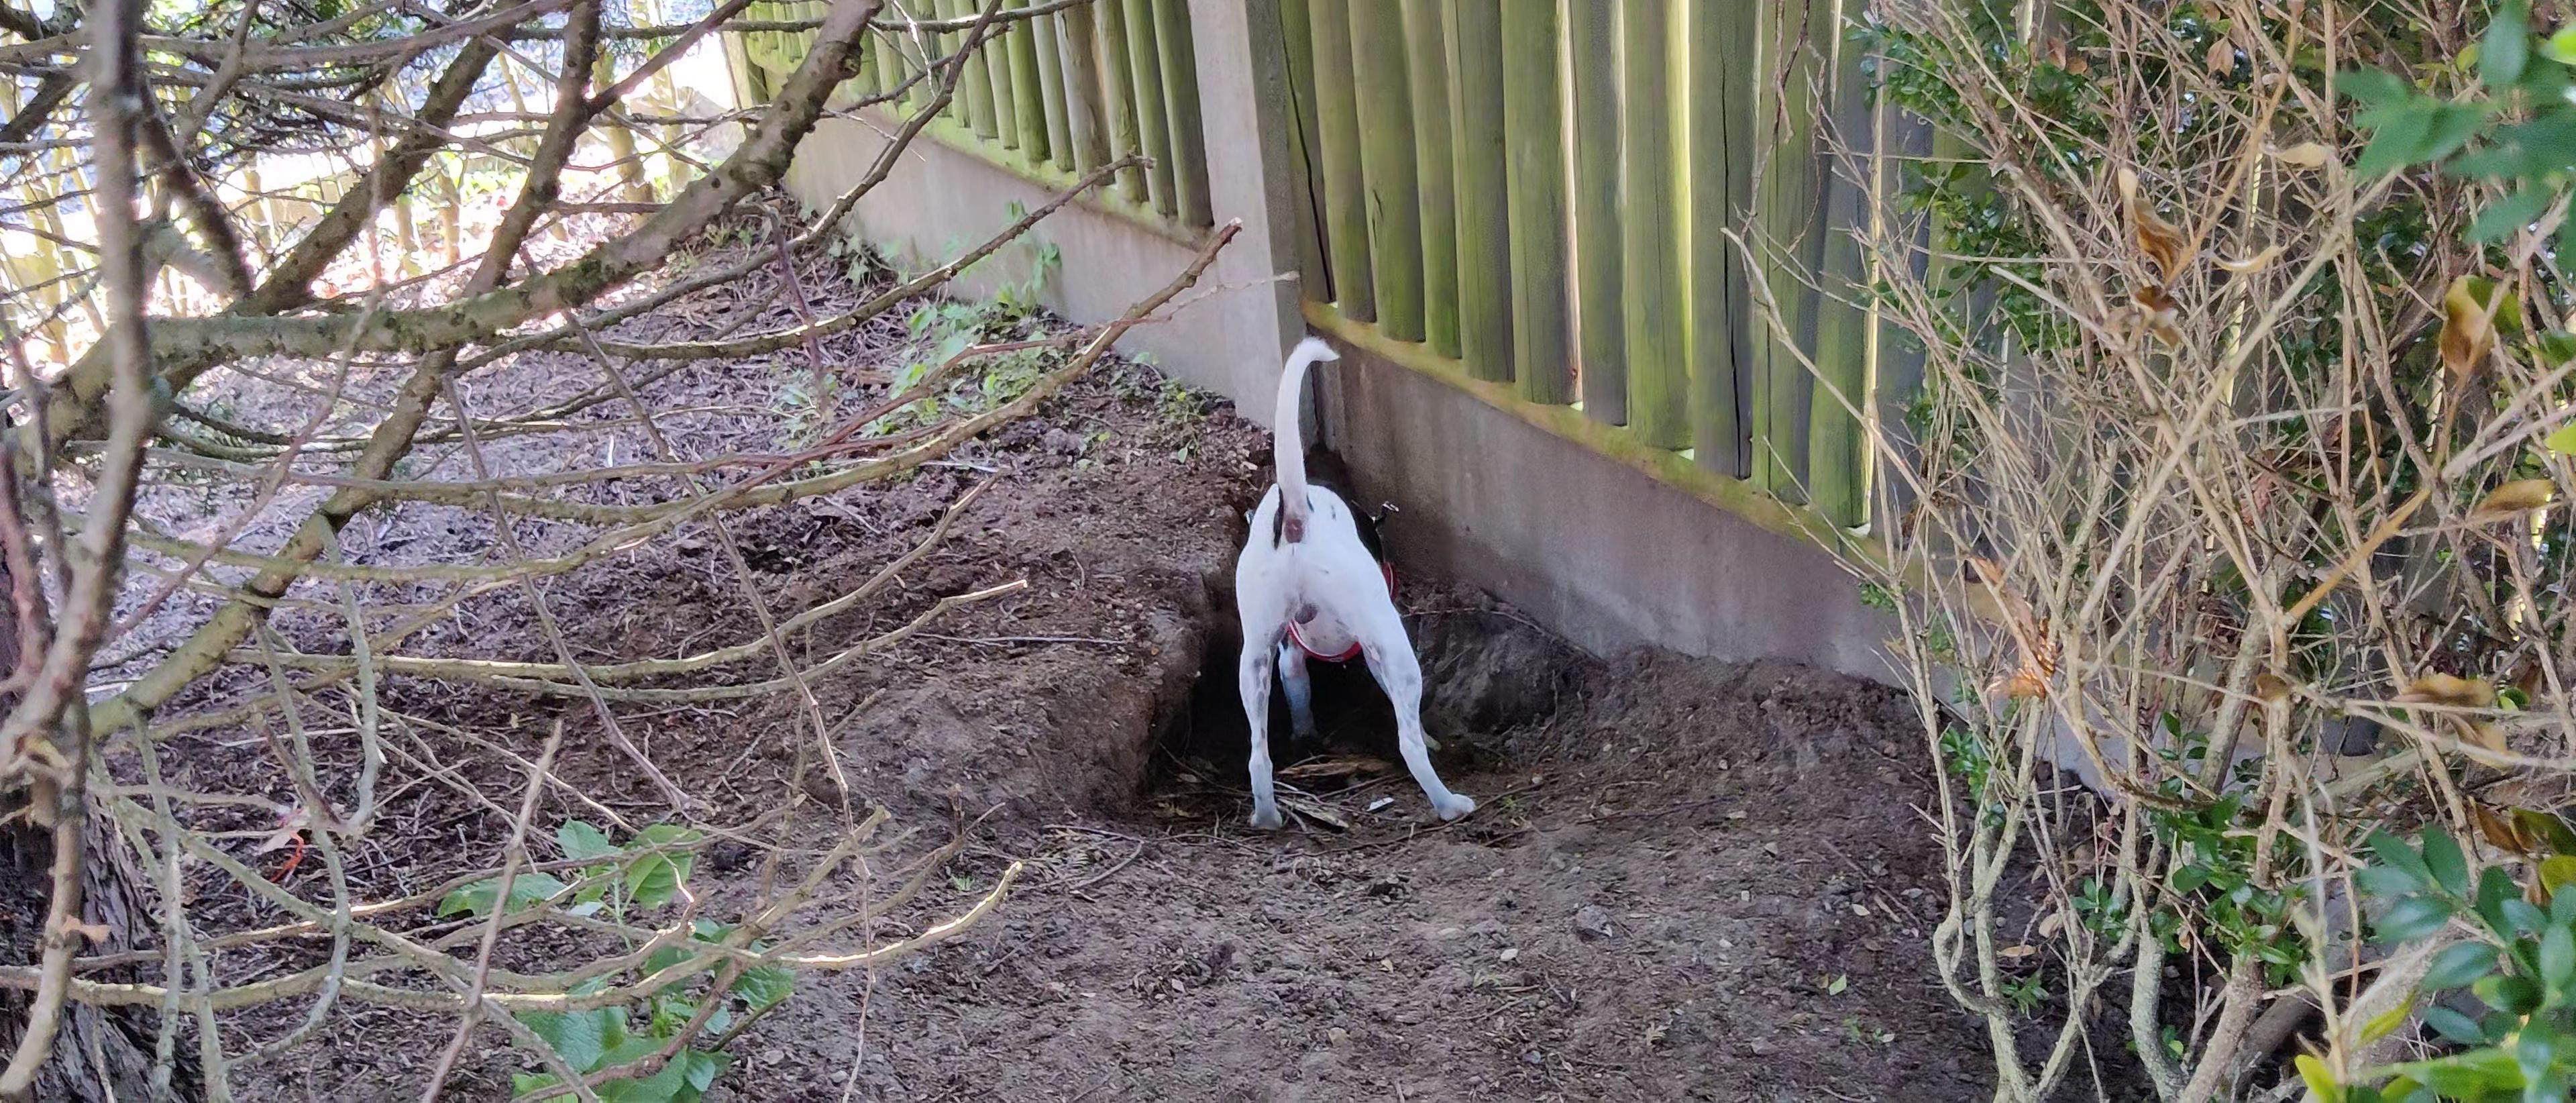Dog: (1196, 322, 1480, 848)
